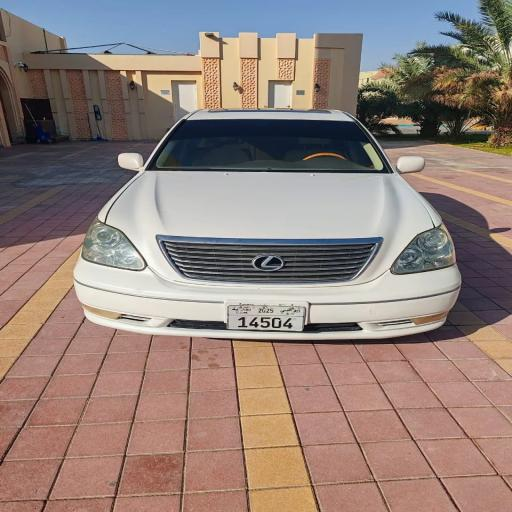license-plates: (227, 305, 305, 331)
